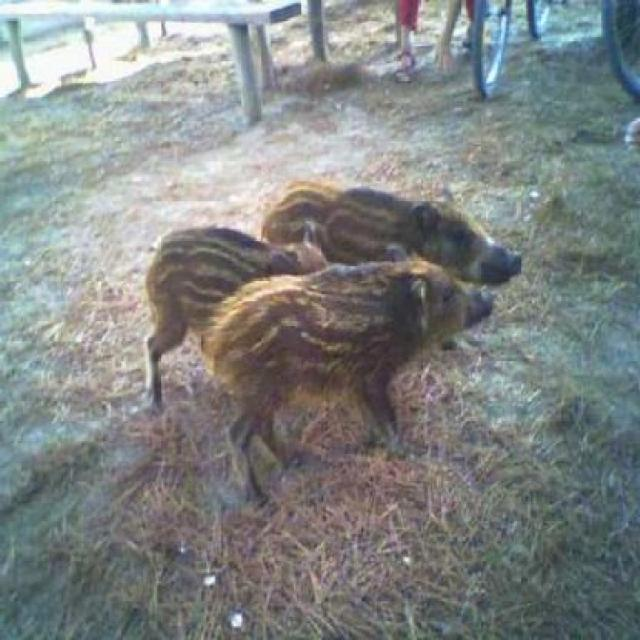Boar: (210, 255, 516, 483), (86, 228, 354, 383), (258, 146, 522, 291)
